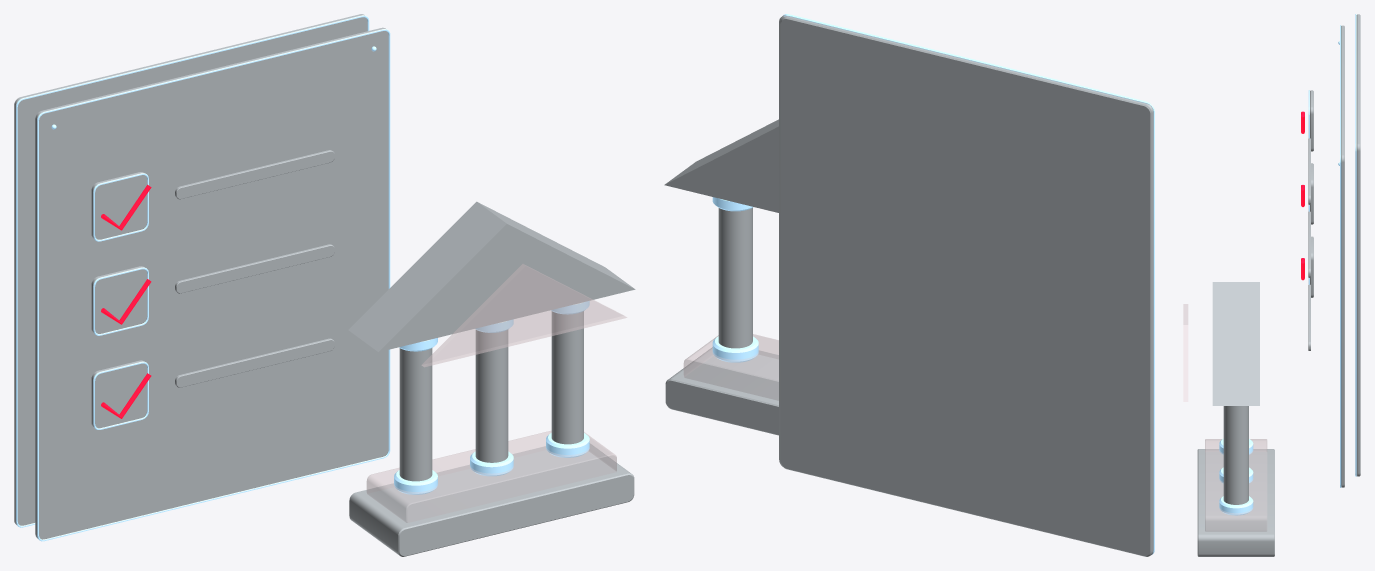
File: 03-data-governance.glb
3 views of the same model, side by side, from view 1: azimuth 30°, elevation 25°; view 2: azimuth 150°, elevation 25°; view 3: azimuth 270°, elevation 25° (orthographic). The views are drawn at different scales.
Parts seen in each view (by area): view 1: BC thin clear technical glass, BC subtle ruby technical glass, BC cool glass edge, BC ruby signal edge; view 2: BC thin clear technical glass, BC subtle ruby technical glass, BC cool glass edge; view 3: BC thin clear technical glass, BC subtle ruby technical glass, BC cool glass edge, BC ruby signal edge.
Part boxes in pixels (x1=…): BC thin clear technical glass: x1=14, y1=14, x2=635, y2=556; BC subtle ruby technical glass: x1=366, y1=264, x2=626, y2=522; BC cool glass edge: x1=16, y1=15, x2=589, y2=541; BC ruby signal edge: x1=101, y1=184, x2=151, y2=418; BC thin clear technical glass: x1=664, y1=15, x2=1153, y2=556; BC subtle ruby technical glass: x1=683, y1=334, x2=778, y2=400; BC cool glass edge: x1=712, y1=14, x2=1154, y2=554; BC thin clear technical glass: x1=1197, y1=14, x2=1360, y2=556; BC subtle ruby technical glass: x1=1183, y1=304, x2=1267, y2=531; BC cool glass edge: x1=1219, y1=14, x2=1356, y2=515; BC ruby signal edge: x1=1301, y1=111, x2=1304, y2=280.
Bounding box in the file's own units: 2.13 × 1.74 × 0.7966.
